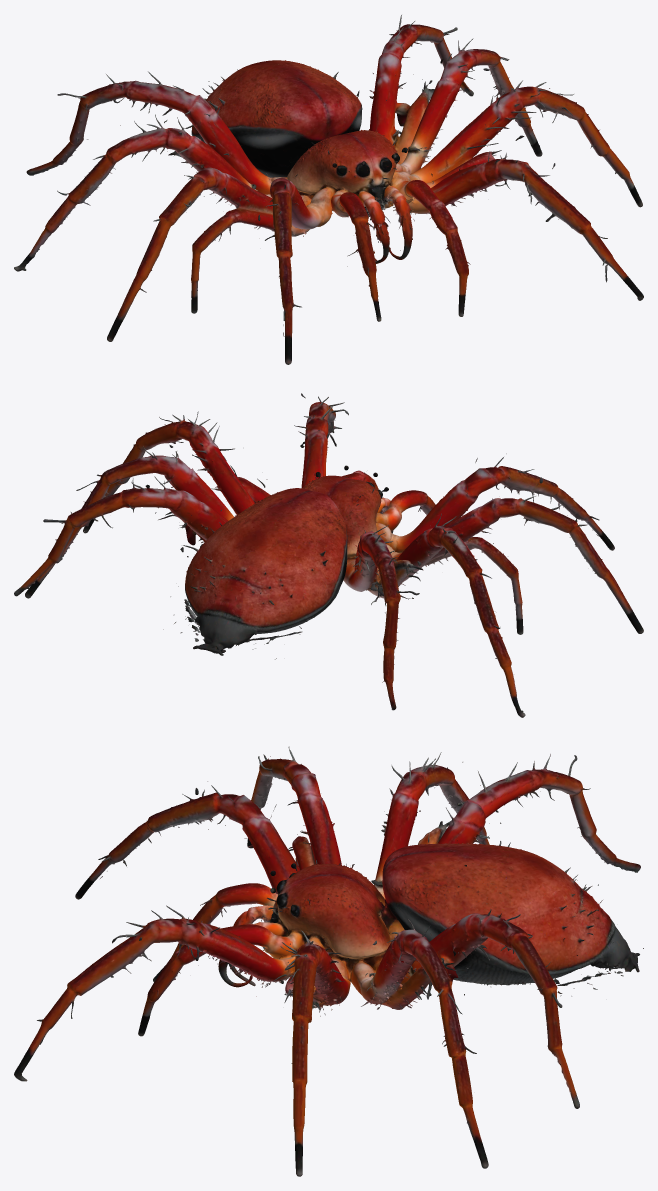
Rendered from araignee-maillage.glb.
3 renders of one model, top to bottom at view 1: azimuth 30°, elevation 25°; view 2: azimuth 150°, elevation 25°; view 3: azimuth 270°, elevation 25°, orthographic. The views are drawn at different scales.
Visible parts, largest first — view 1: geometry_0; view 2: geometry_0; view 3: geometry_0.
Part boxes in pixels (<box>): geometry_0: <box>14,15,643,364</box>; geometry_0: <box>14,393,643,717</box>; geometry_0: <box>14,746,643,1176</box>.
Size of the model in its own units: 0.9987 by 0.2875 by 0.8468.
Materials: 1 (1 with a texture image).
